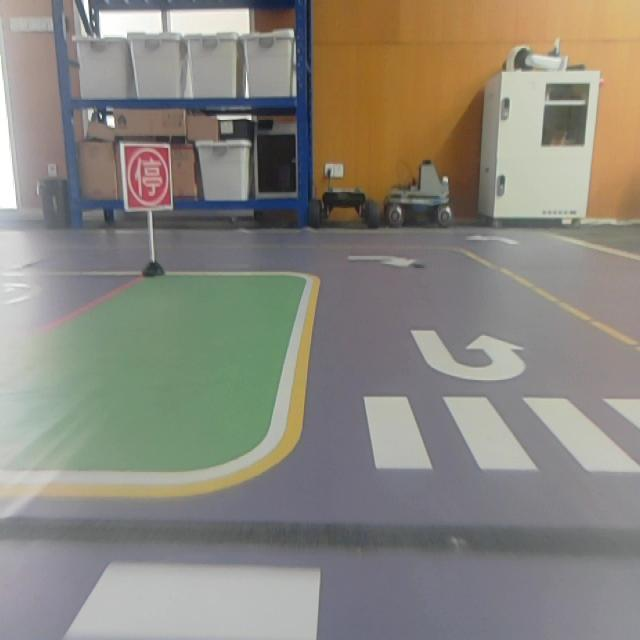left_lane: (278, 277, 321, 442)
right_lane: (463, 248, 640, 352)
